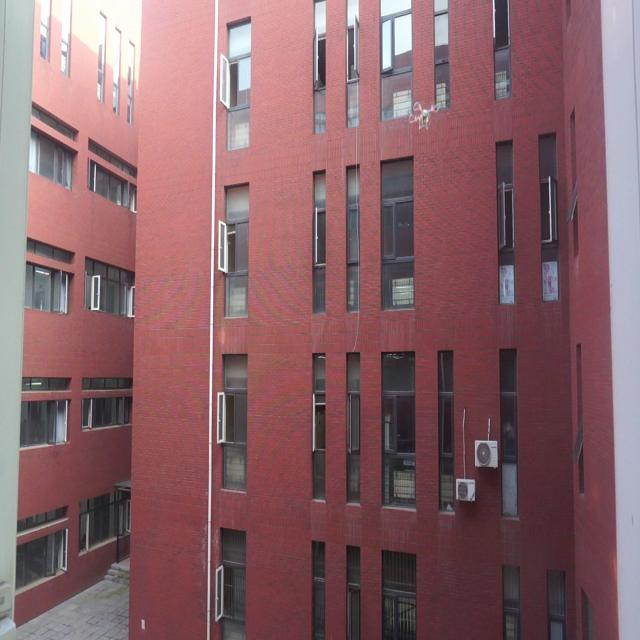drone: (407, 98, 440, 133)
